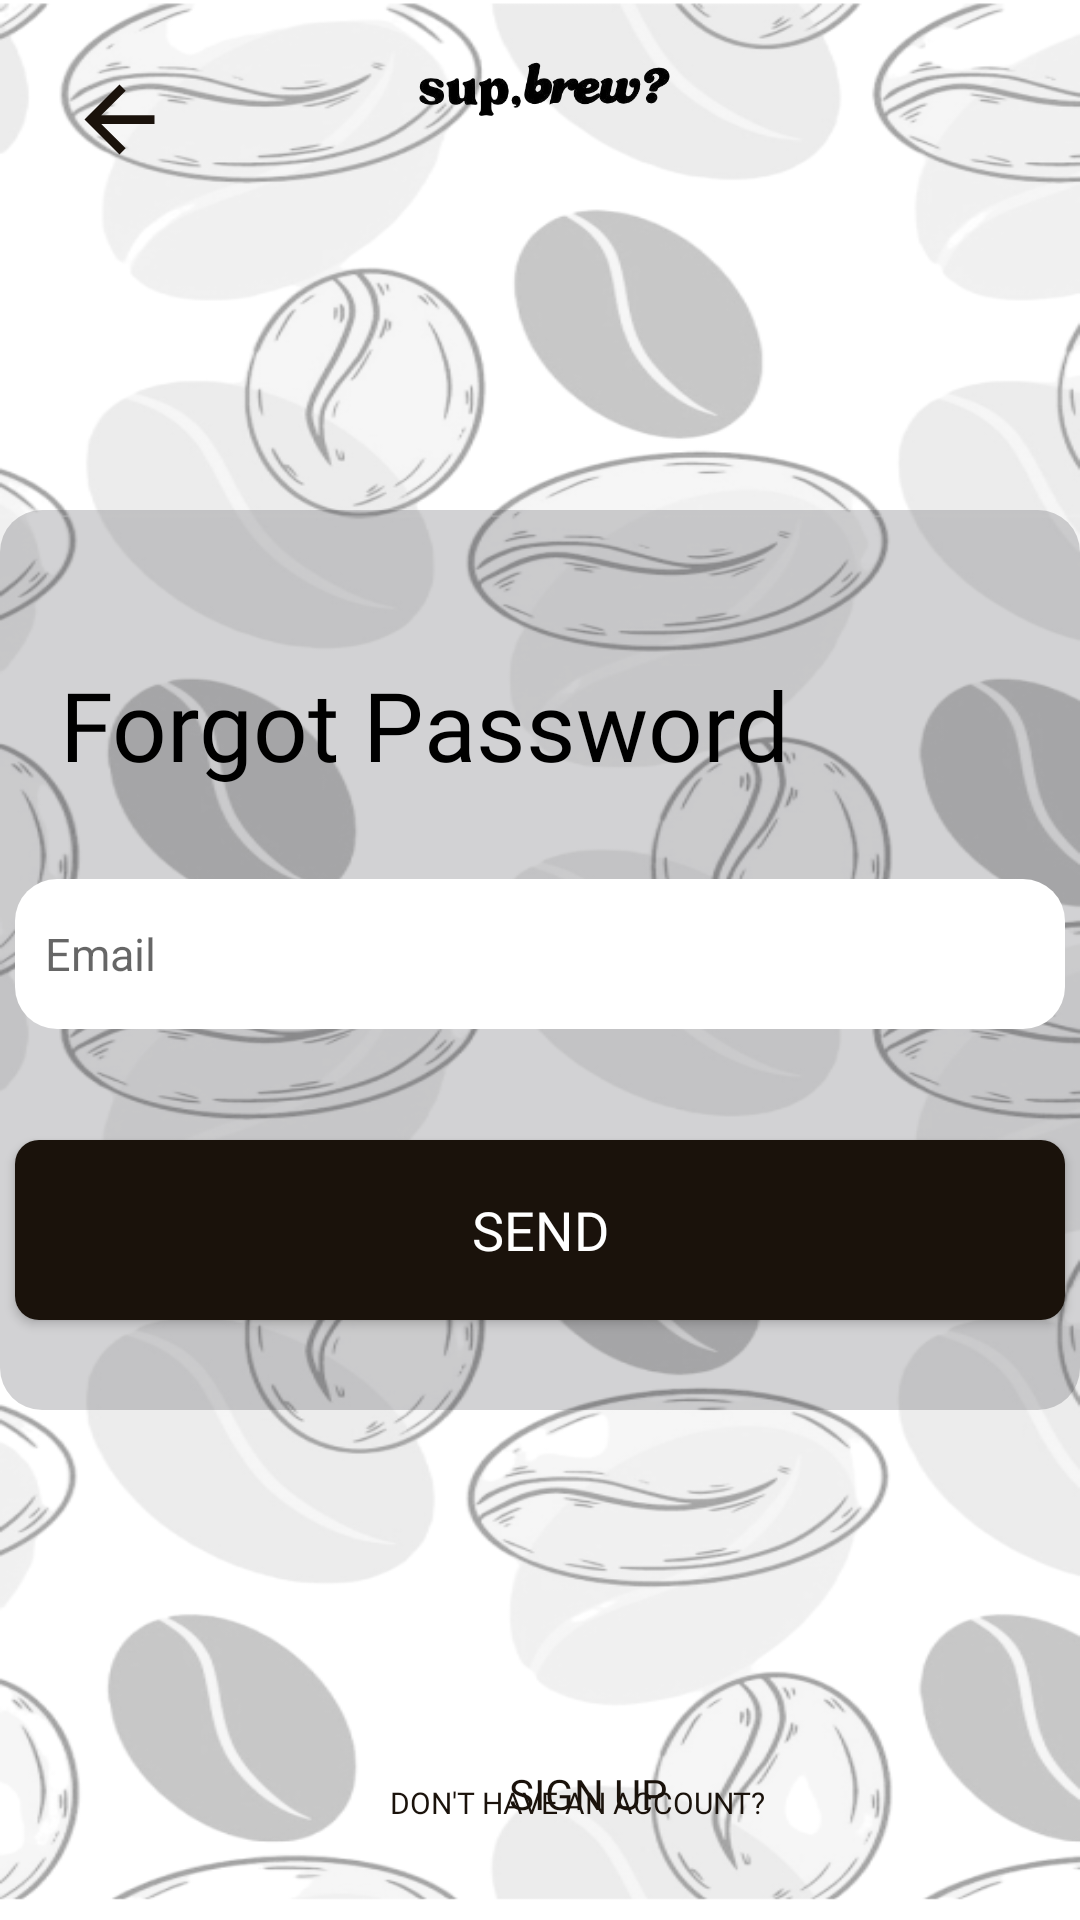

Named icons in this screenshot (1080x1920) and their bounding boxes, (x1,y1,x2,y2):
back: (67,67,172,172)
